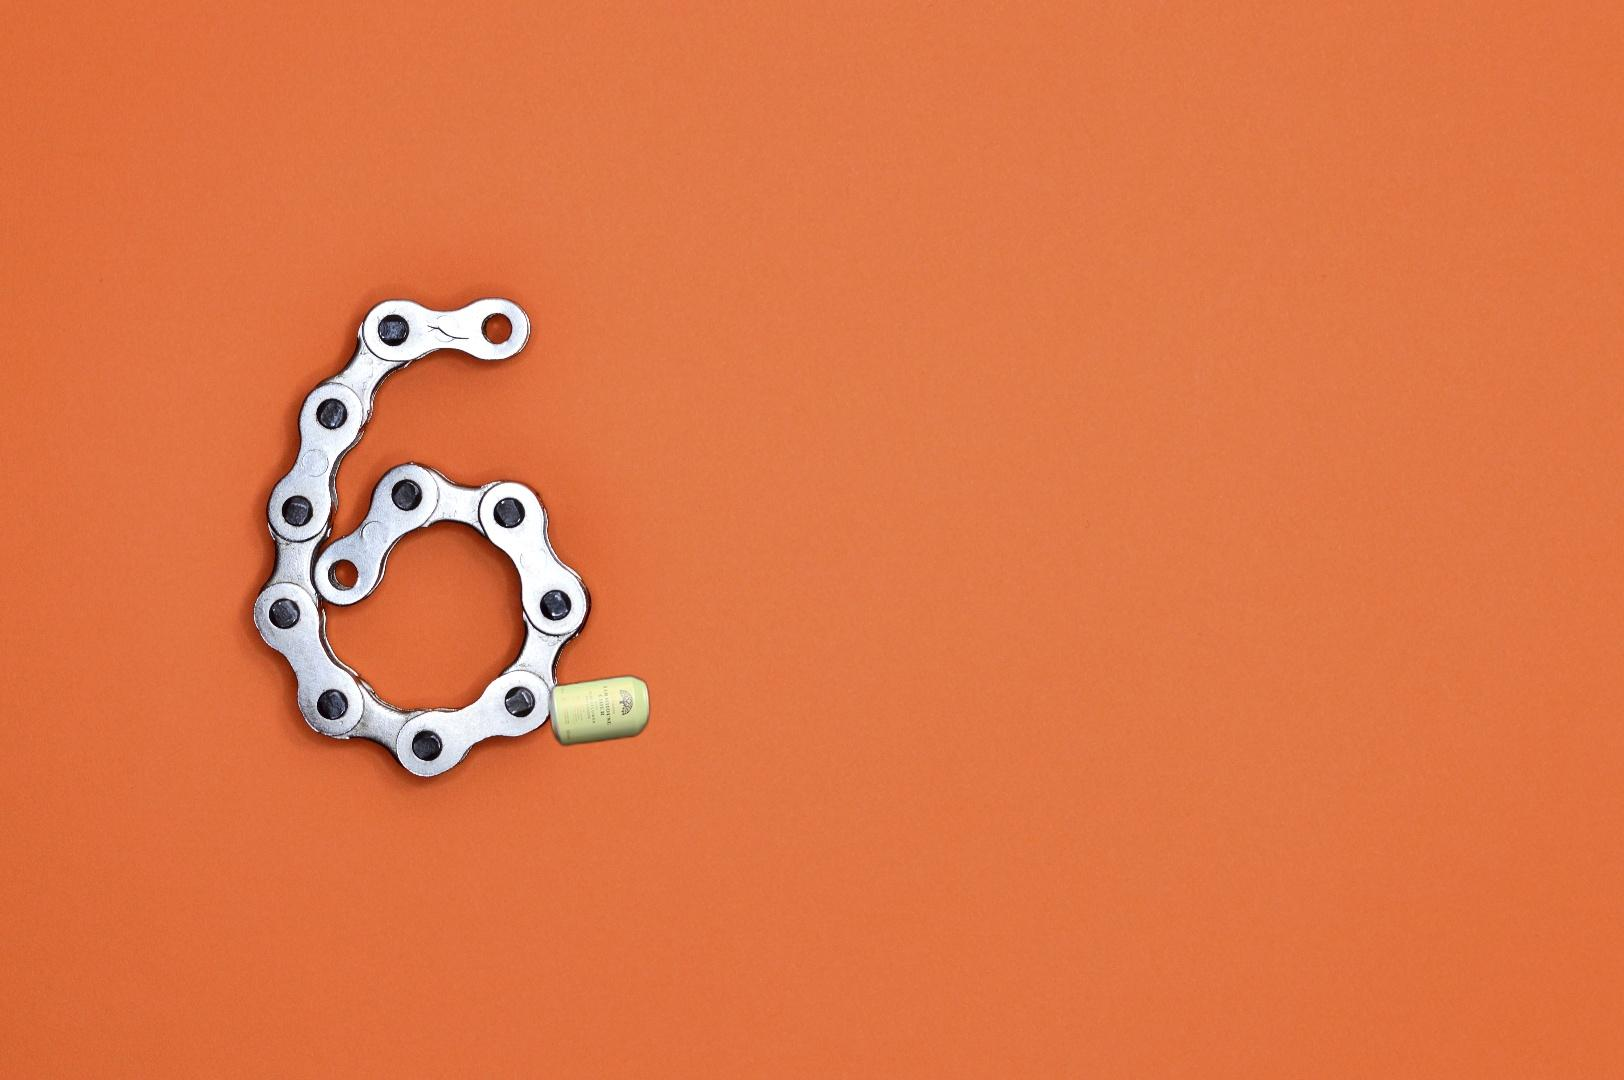metal-cans: (342, 670, 830, 1080)
